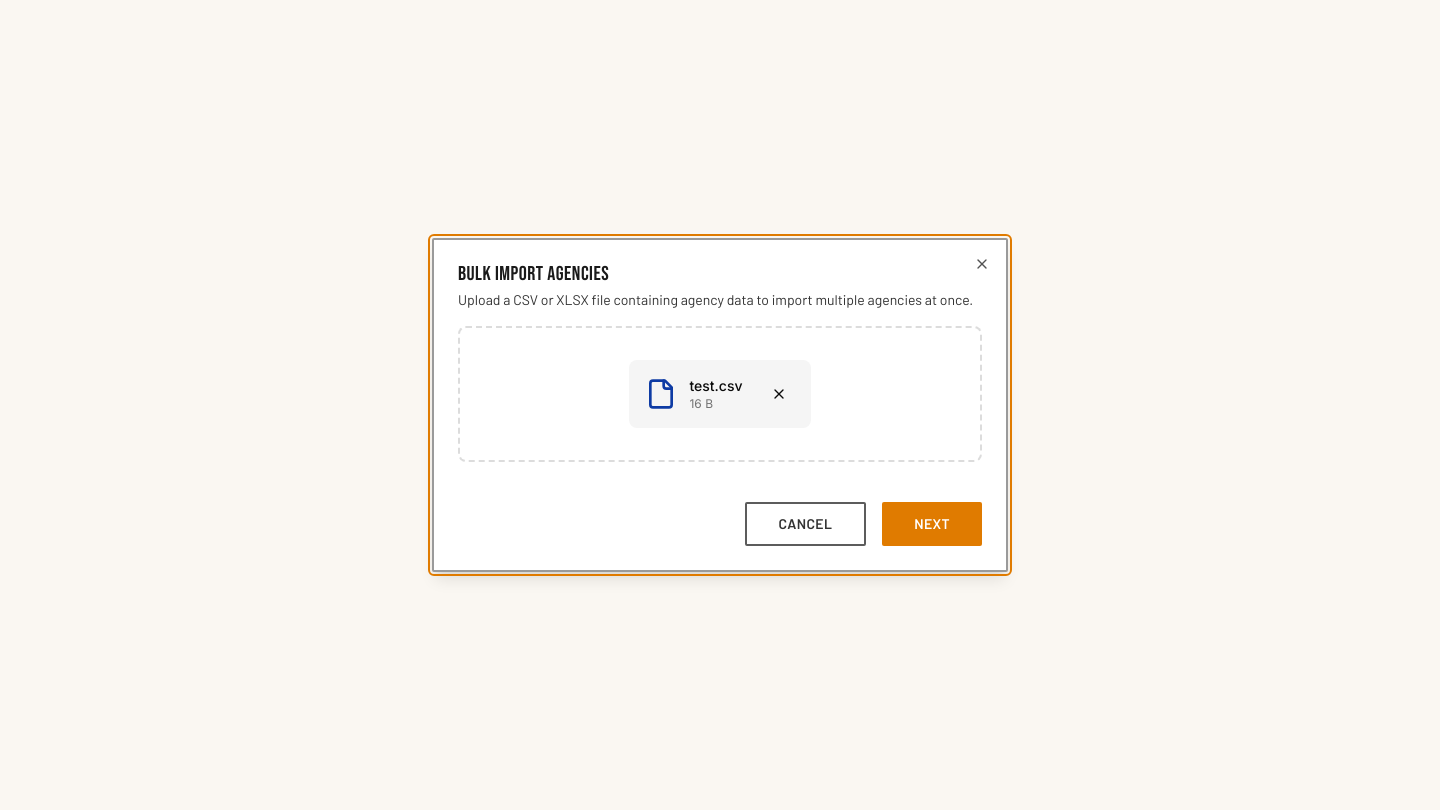
Test: BulkImportModal › Next Button Navigation › returns to upload step when Back is clicked
Earlier steps of the test are not shown.
What coordinates should you click on to do the following:
click the button with test id "next-button"
I would click on:
 (932, 524)
Its box is x1=882 y1=502 x2=982 y2=546.
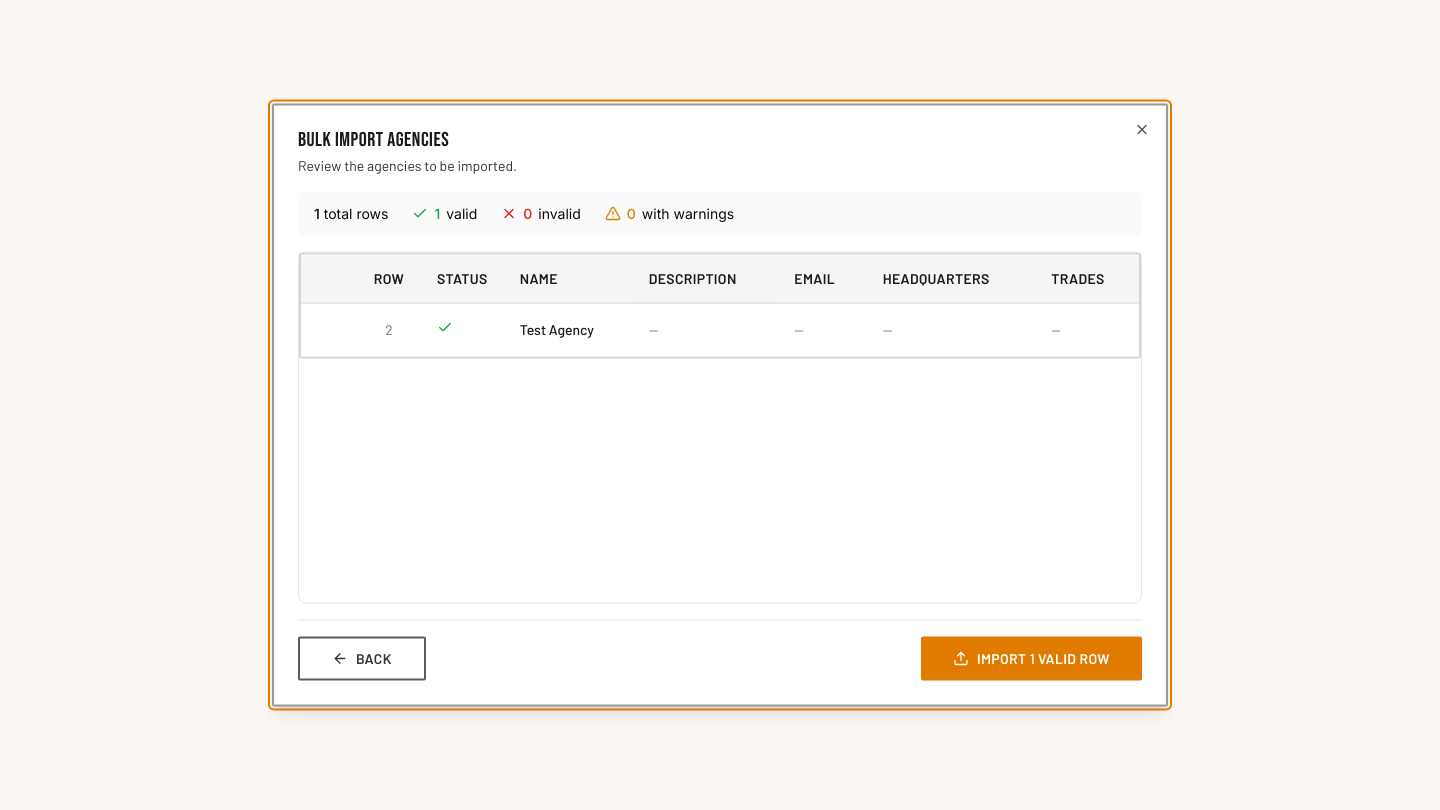
Check: the button with test id "back-button" is shown
What coordinates should you click on to do the following:
click the button with test id "back-button"
I would click on:
 (362, 658)
Its box is x1=298 y1=636 x2=426 y2=680.
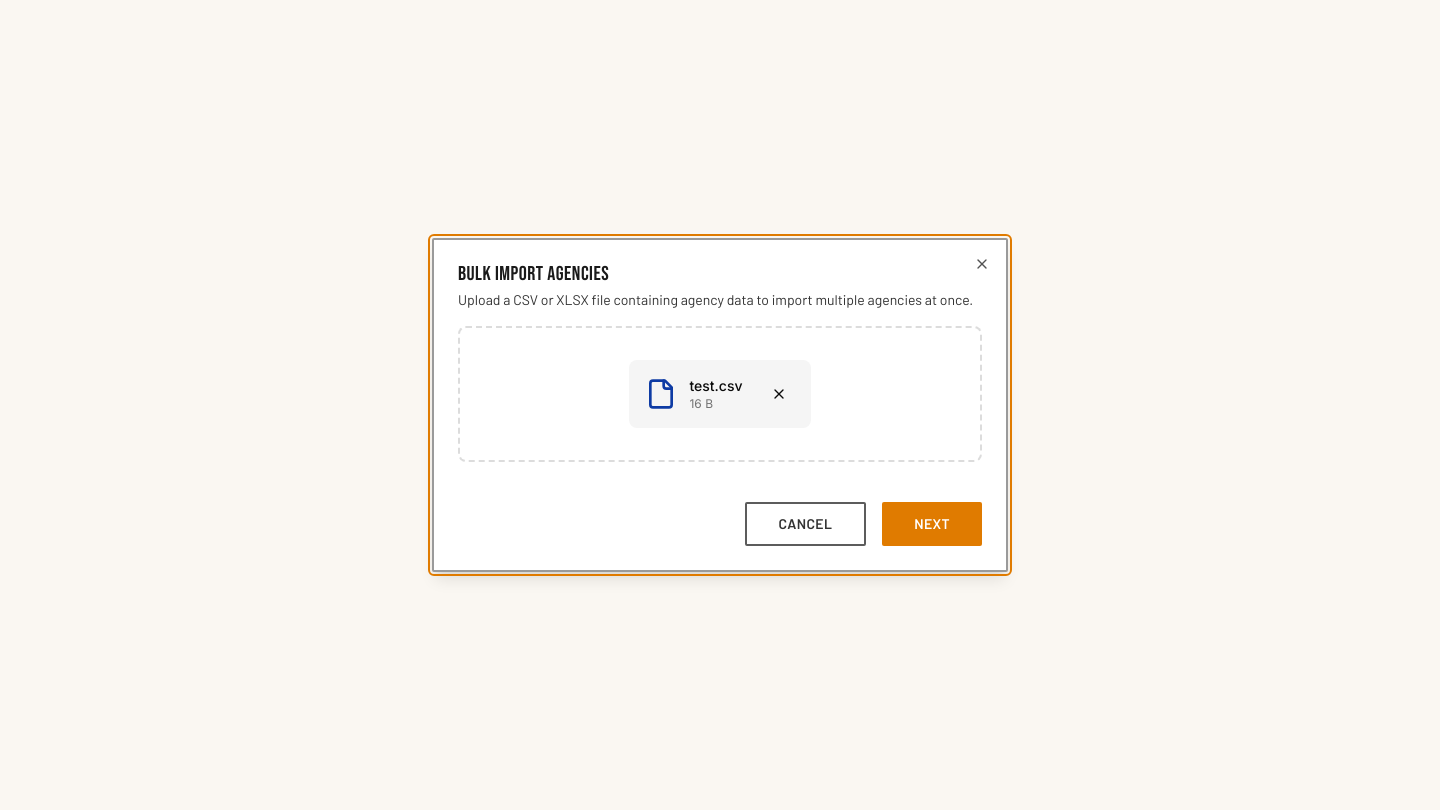
Check: the element with test id "drop-zone" is shown, box x1=458 y1=326 x2=982 y2=462
